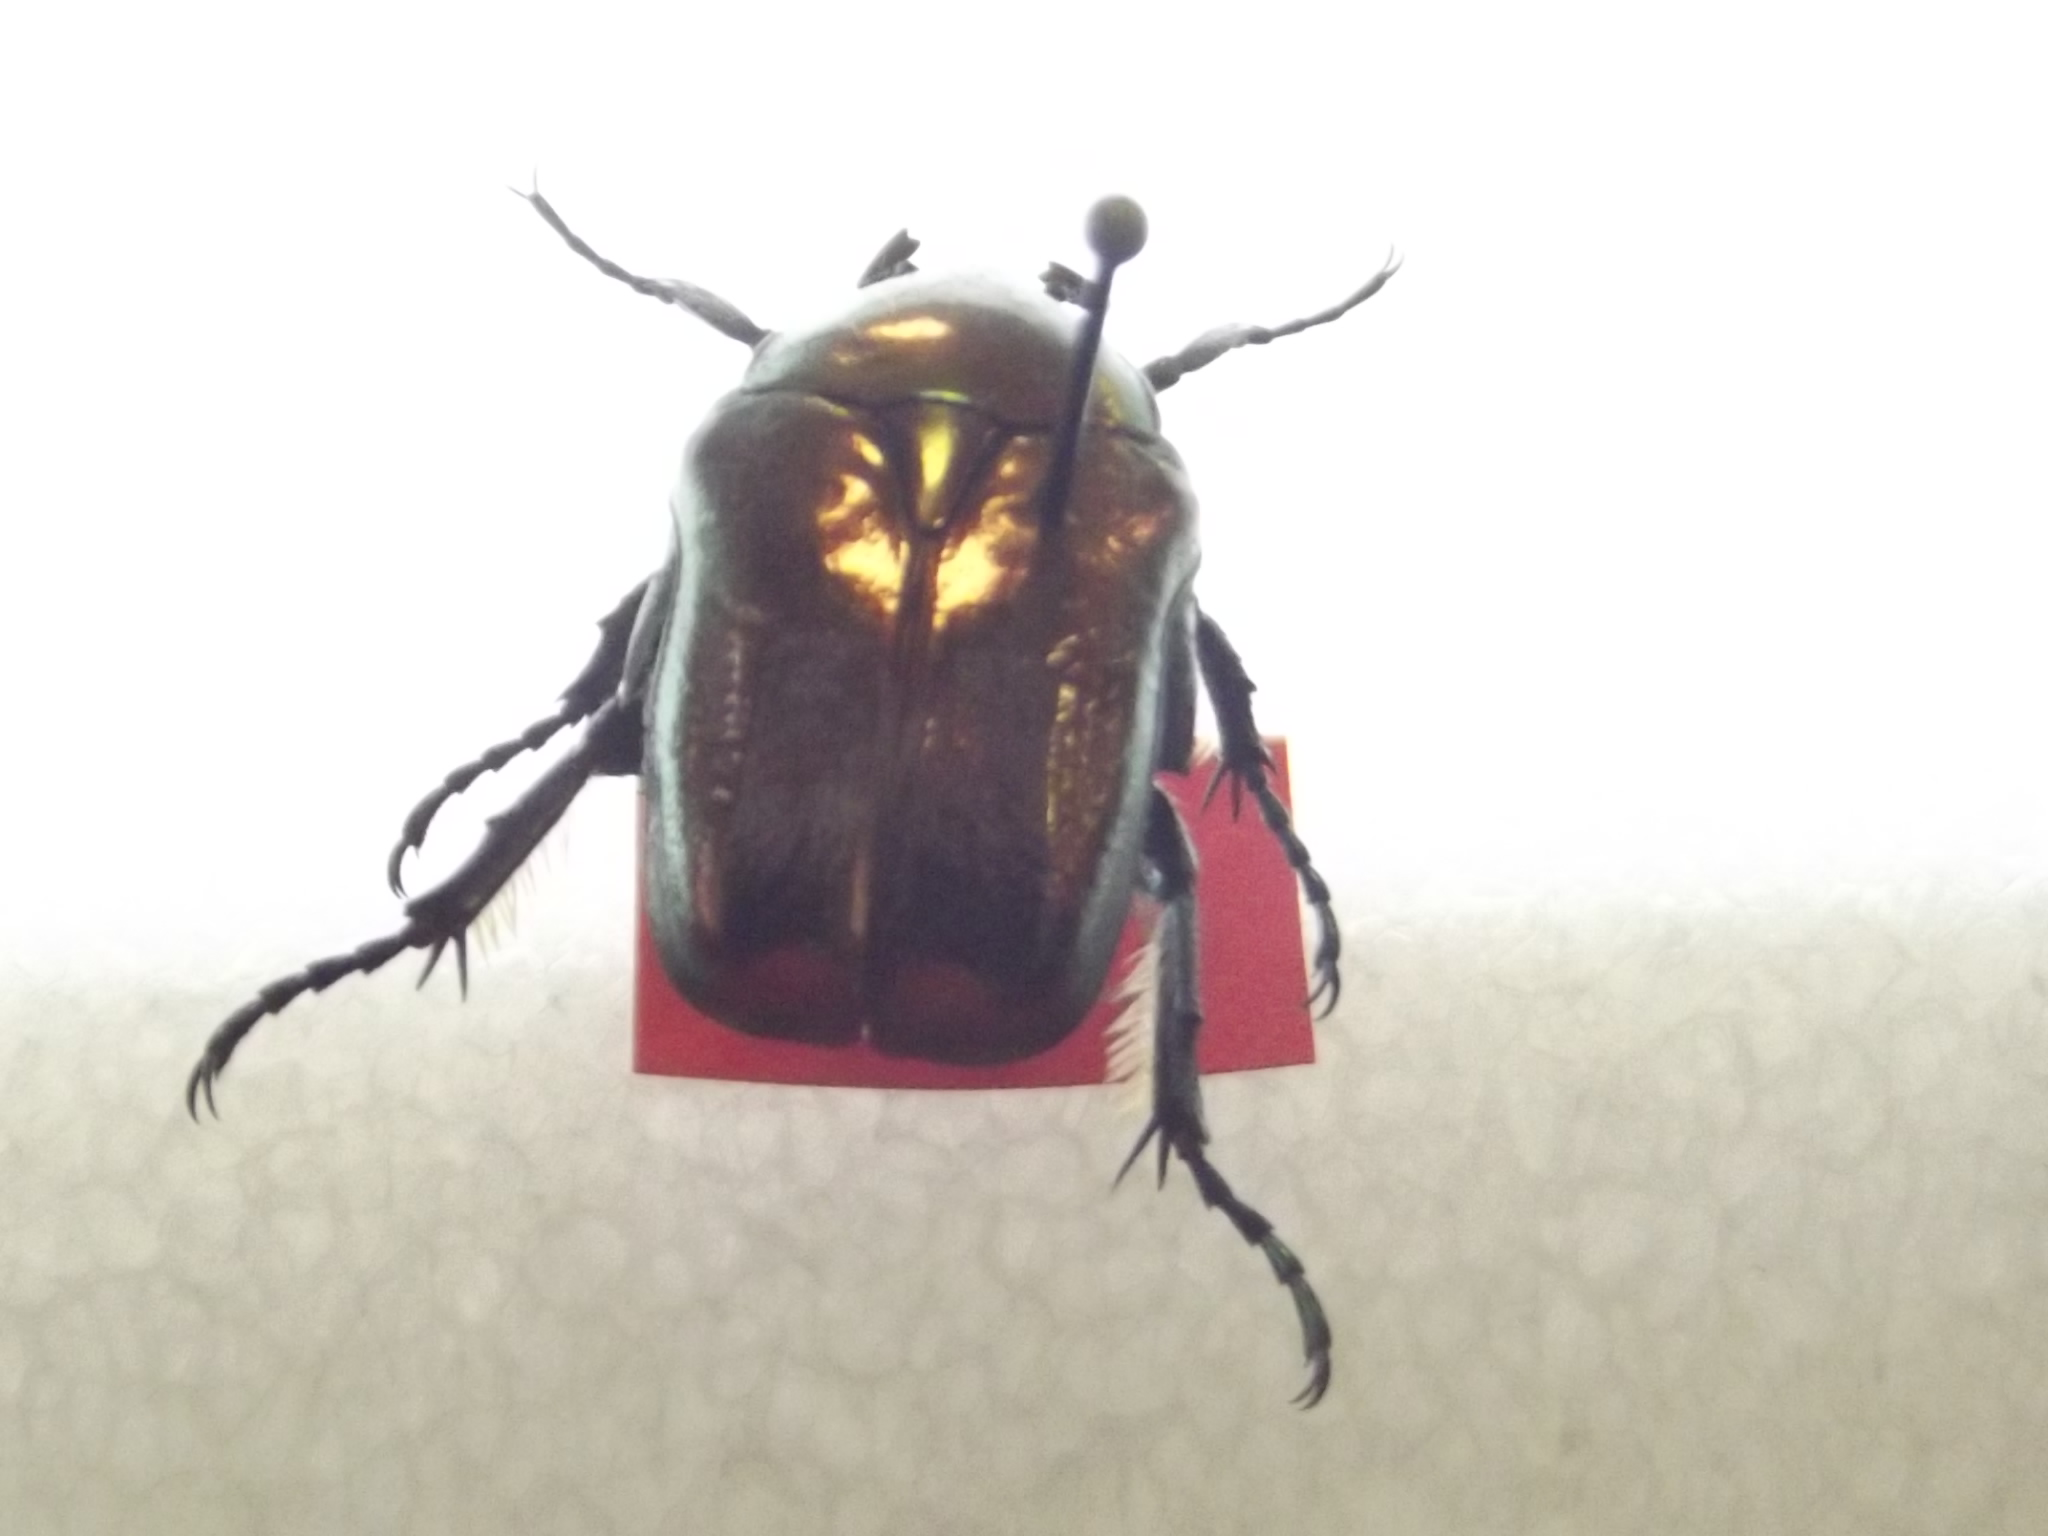Protaetia_besucheti: (144, 144, 1417, 1425)
